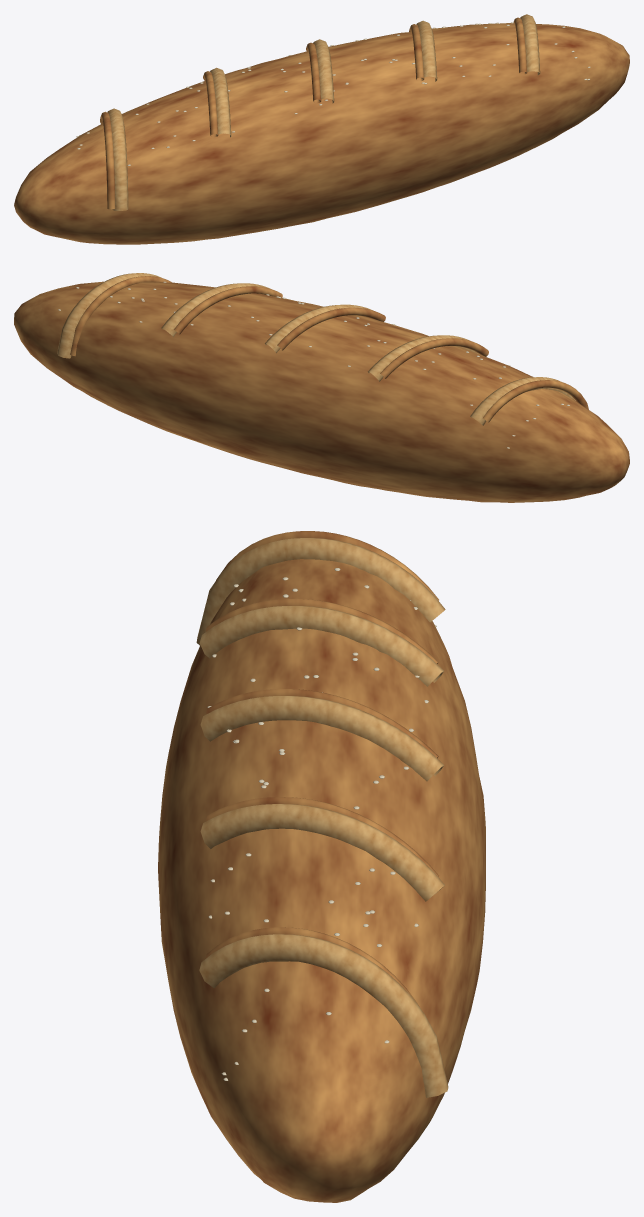
File: food_lance_runtime.glb
3 views of the same model, one above another, from view 1: azimuth 30°, elevation 25°; view 2: azimuth 150°, elevation 25°; view 3: azimuth 270°, elevation 25° (orthographic). The views are drawn at different scales.
Visible parts, largest first — view 1: fr_food_baguette_body; view 2: fr_food_baguette_body; view 3: fr_food_baguette_body.
Boxes of the visible parts, x1,y1,x2,y2 form: fr_food_baguette_body: [14, 14, 629, 244]; fr_food_baguette_body: [14, 273, 629, 502]; fr_food_baguette_body: [158, 531, 485, 1202].
Bounding box in the file's own units: 1.15 × 0.2894 × 0.268.
Materials: 1 (1 with a texture image).
